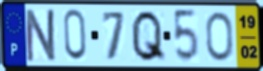0: (61, 8, 88, 64)
5: (172, 7, 201, 65)
7: (101, 10, 128, 62)
N: (25, 8, 59, 64)
O: (204, 10, 236, 63)
Q: (130, 9, 168, 64)
